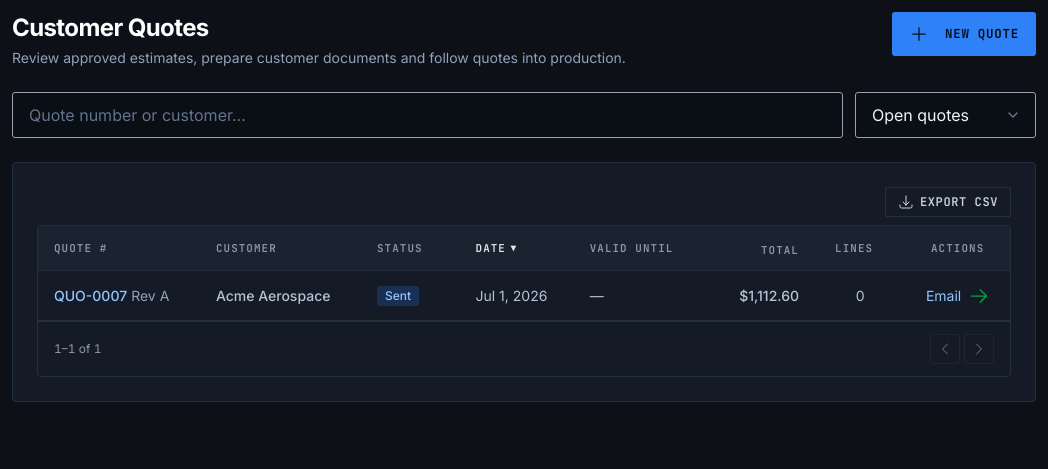
Test: fresh Open list excludes rejected quotes and rounds standard totals to cents
Expected: the text "REJECTED-8" is not shown
Expected: the text "$1,112.60" is shown, [739,287,799,304]
Select "All quote history" in the dropdown named "Quote status". click: (946, 115)
box: [855,92,1036,138]
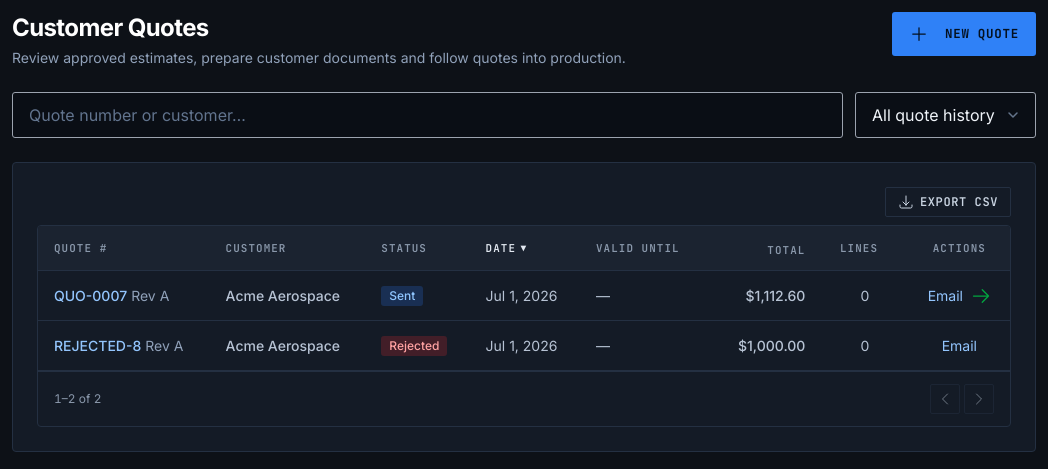
Expected: the text "REJECTED-8" is shown, [54,337,141,354]
